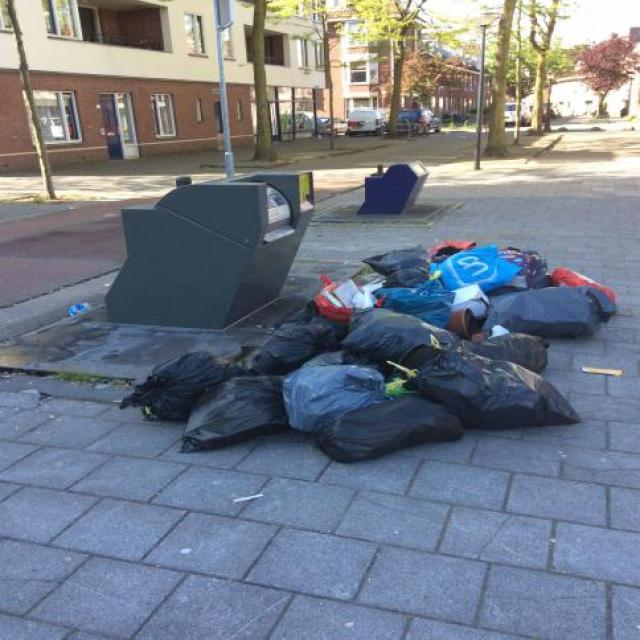Anorganik: (415, 332, 583, 443), (319, 264, 452, 370), (126, 332, 271, 426), (315, 385, 470, 468), (474, 262, 614, 348), (164, 366, 310, 447)
